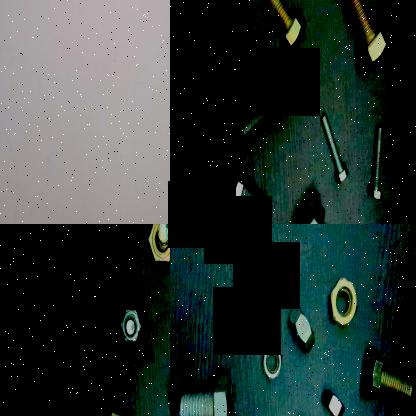Bolts: (331, 0, 392, 77), (357, 345, 416, 416), (250, 0, 310, 60), (171, 365, 237, 416), (237, 82, 285, 146), (236, 235, 280, 304), (317, 108, 349, 190), (226, 165, 270, 223), (359, 127, 387, 205), (287, 187, 345, 224), (116, 305, 142, 347), (144, 224, 170, 265), (164, 389, 170, 416)
NUTS: (324, 271, 360, 339), (286, 298, 316, 354), (255, 340, 285, 384), (321, 378, 345, 416)
